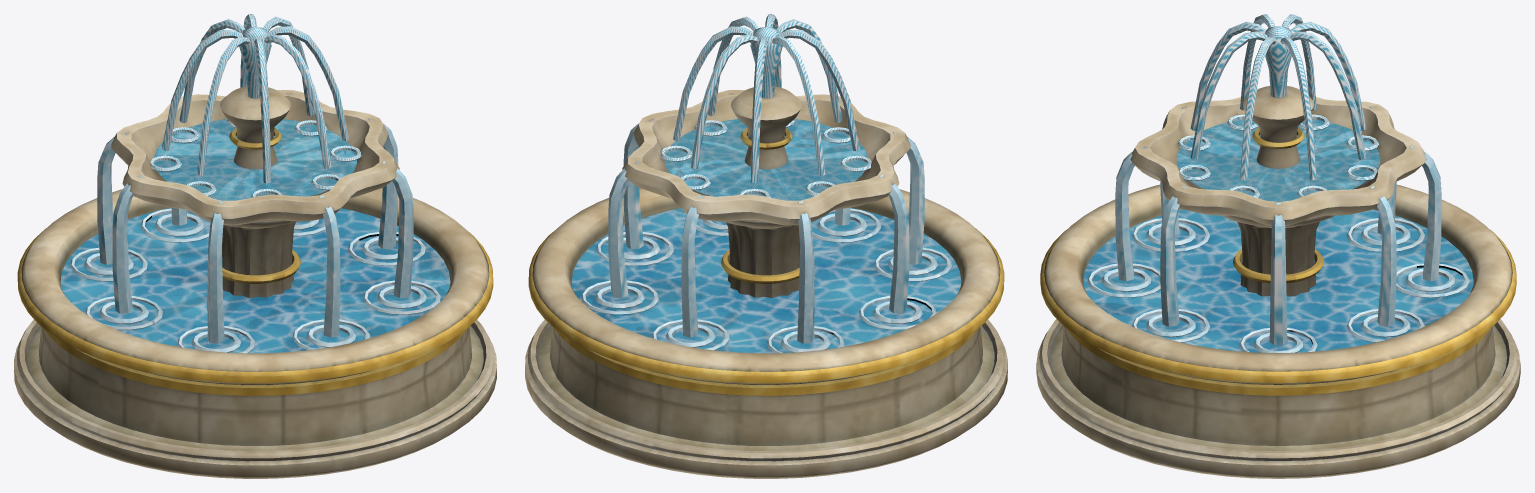
The model's file is fountain.fbx.
3 views of the same model, side by side, from view 1: azimuth 30°, elevation 25°; view 2: azimuth 150°, elevation 25°; view 3: azimuth 270°, elevation 25° (orthographic).
Parts seen in each view (by area): view 1: Body, Anim Spin; view 2: Body, Anim Spin; view 3: Body, Anim Spin.
Part boxes in pixels (<box>): Body: <box>14,86,496,478</box>; Anim Spin: <box>150,14,361,197</box>; Body: <box>525,86,1007,478</box>; Anim Spin: <box>660,14,871,197</box>; Body: <box>1036,86,1520,478</box>; Anim Spin: <box>1178,14,1378,197</box>.
Size of the model in its own units: 2.23 by 1.8 by 2.23.
